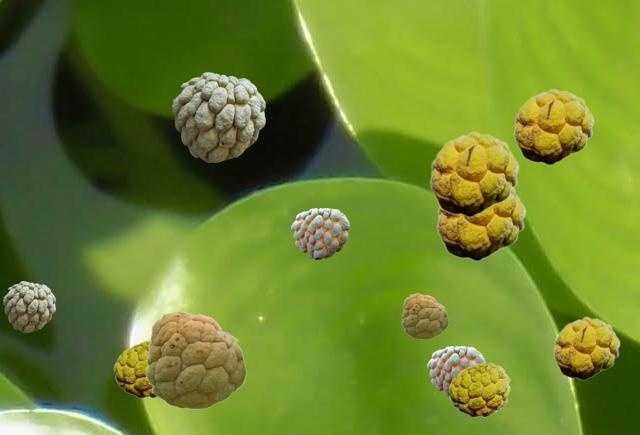atis: (145, 310, 245, 408), (172, 72, 264, 161), (429, 131, 518, 216), (436, 188, 525, 260), (513, 88, 593, 164), (553, 316, 619, 379), (448, 362, 509, 416), (427, 346, 484, 396), (291, 208, 348, 258), (3, 281, 54, 331), (113, 339, 156, 397), (401, 293, 447, 338)
